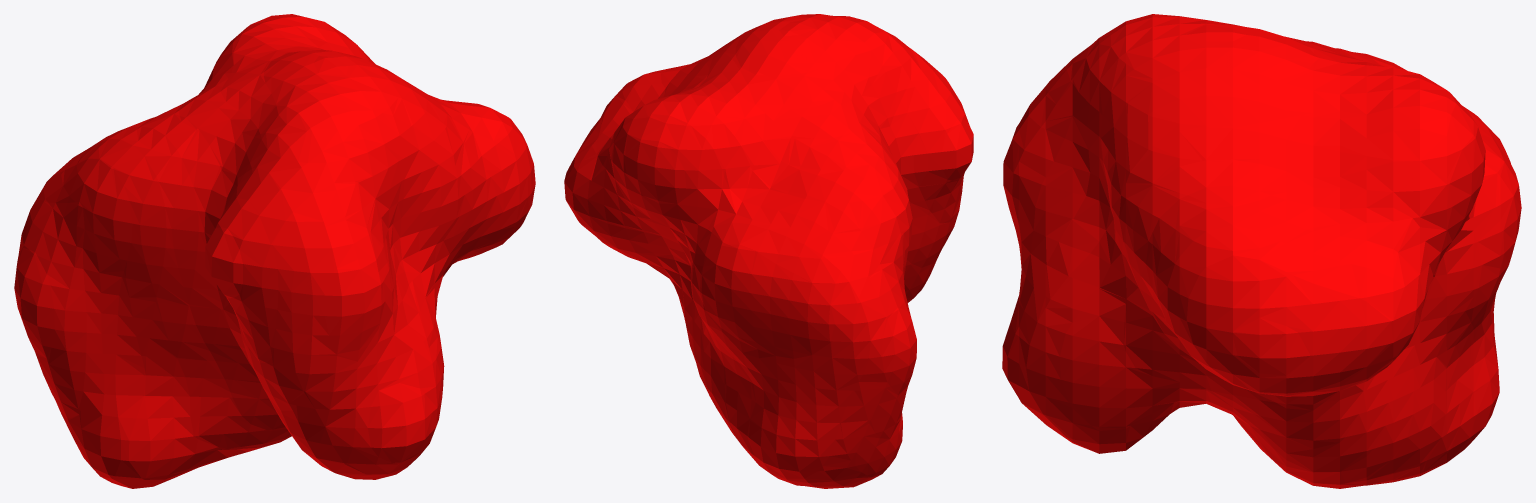
File: yodD_coarse.dae
The picture shows the model from 3 angles, left to right: view 1: azimuth 30°, elevation 25°; view 2: azimuth 150°, elevation 25°; view 3: azimuth 270°, elevation 25°; orthographic projection. The views are drawn at different scales.
Parts seen in each view (by area): view 1: yodD; view 2: yodD; view 3: yodD.
Boxes of the visible parts, box(x1,y1,x2,y2) form: yodD: box(14, 14, 535, 488); yodD: box(564, 14, 973, 488); yodD: box(1002, 14, 1521, 488).
Bounding box in the file's own units: 35.84 × 34.76 × 33.02.
